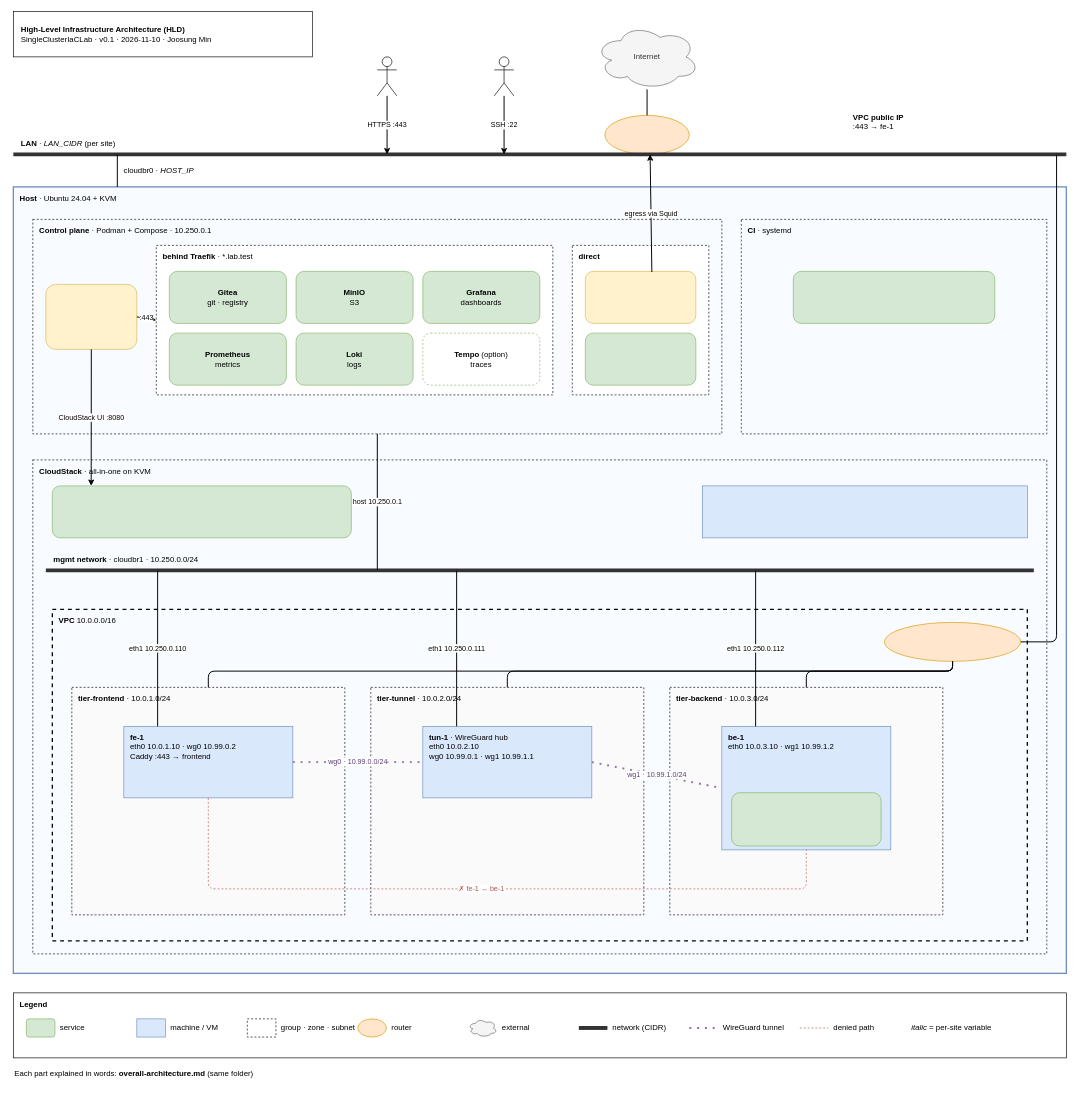
This 1080x1095 diagram has some shape labels left out. The shapes that lost their labels are listed below. From the top down, each one's centre as x and y in pixels, then its label:
At [387,76]: "Admin".
At [504,76]: "Remote Admin".
At [646,134]: "LAN gateway LAN_GATEWAY".
At [91,316]: "Traefik :443".
At [640,297]: "Squid :3128 egress proxy".
At [894,297]: "act_runner pipeline jobs".
At [640,358]: "Vault :8200".
At [201,511]: "Management server UI · API".
At [864,511]: "System VMs SSVM · CPVM · router".
At [952,641]: "VPC router".
At [806,819]: "k3s single node".
